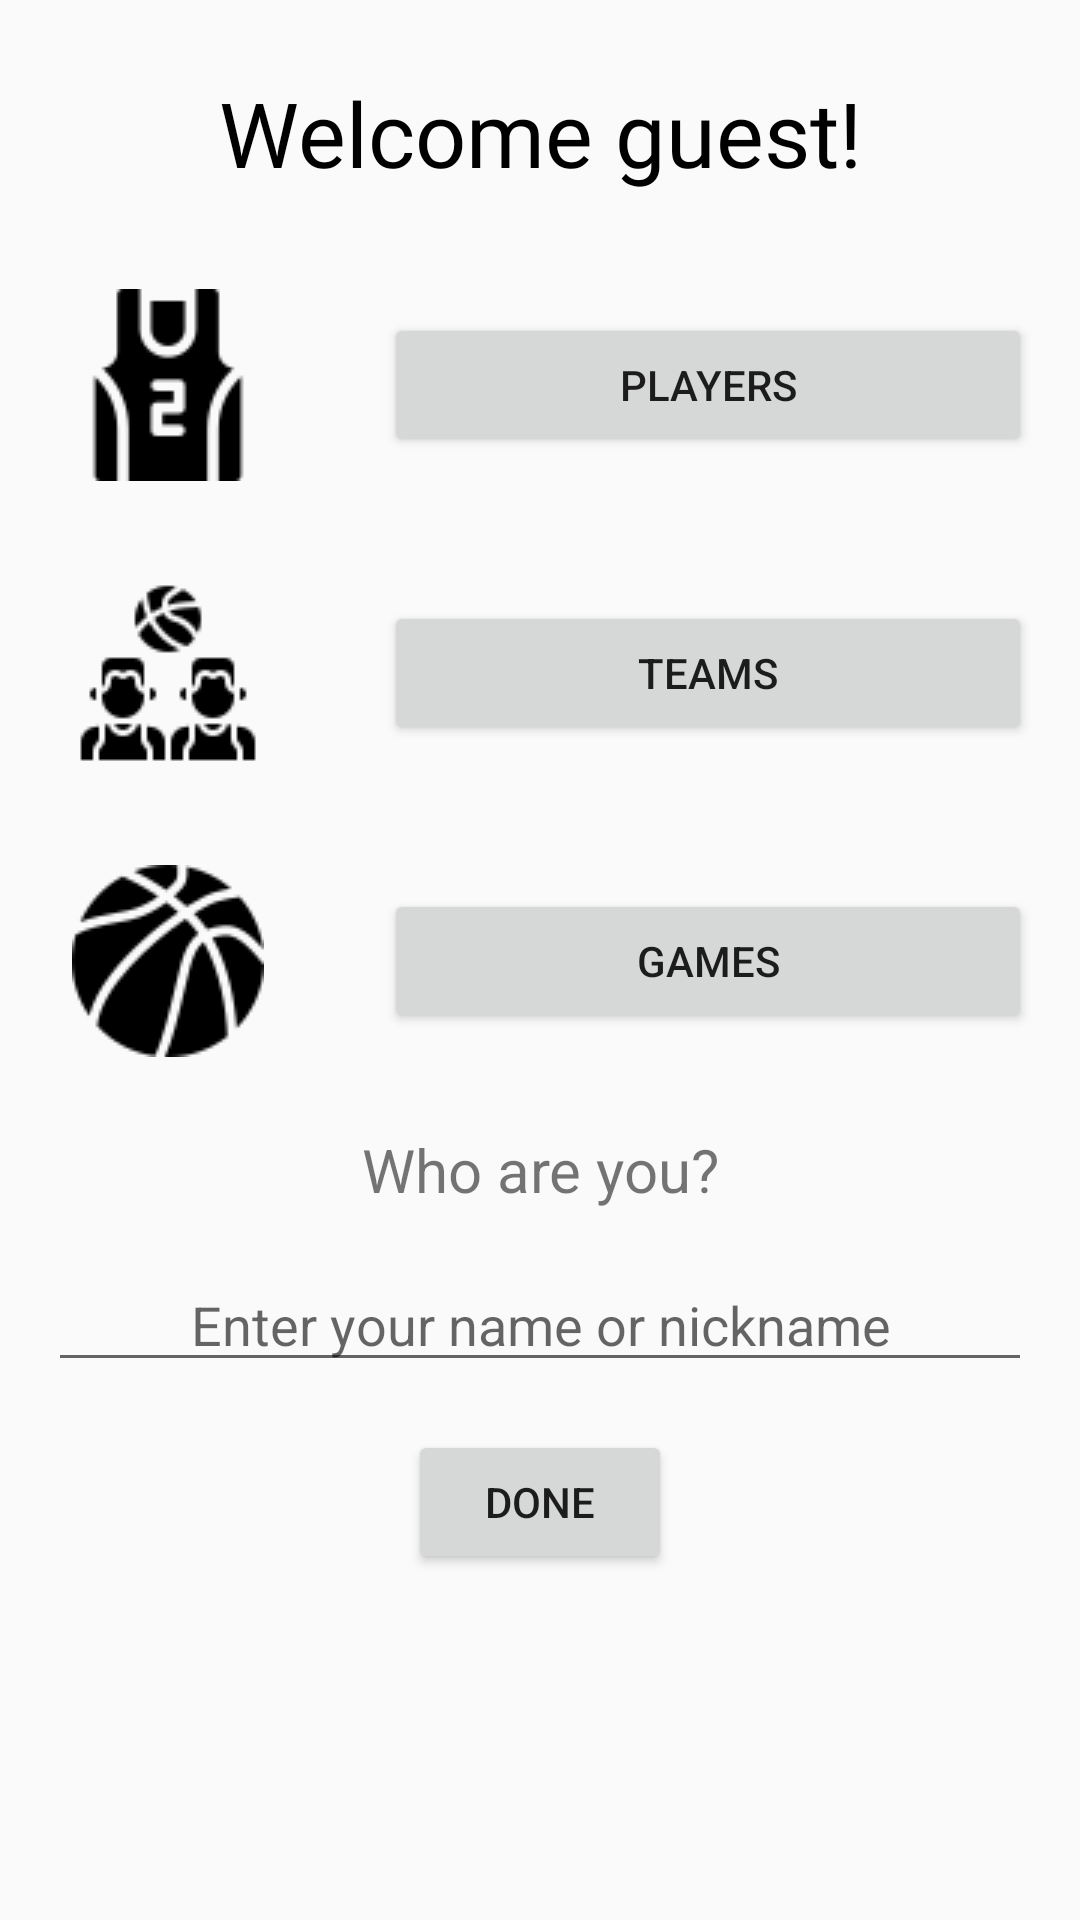

Locate icon controls on the screen. Image size 1080px×1920px, boxes as bbox(x1, y1, x2, y2).
Basketball: bbox(72, 865, 264, 1057)
Basketball player jersey: bbox(92, 289, 244, 481)
